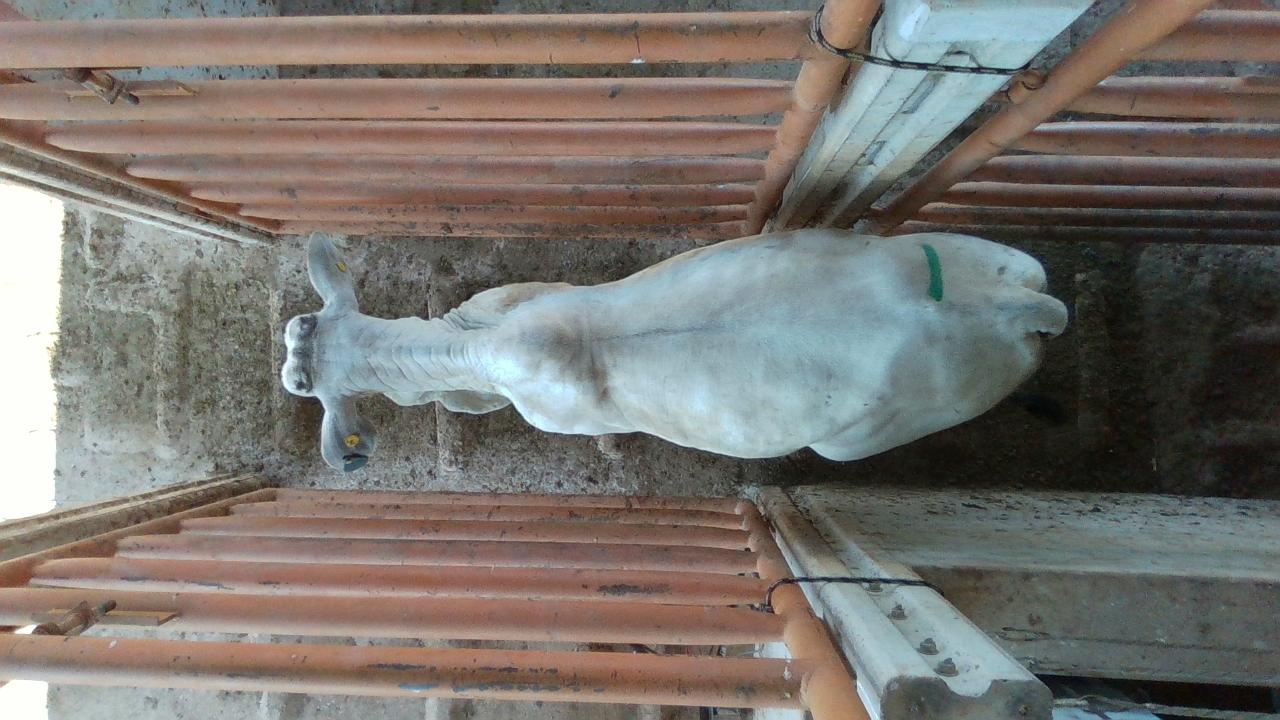cattle: (279, 224, 1068, 472)
